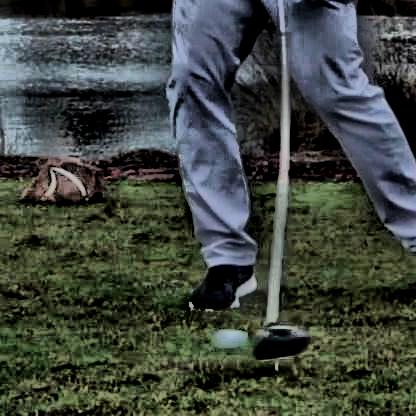golfball: (207, 324, 247, 347)
